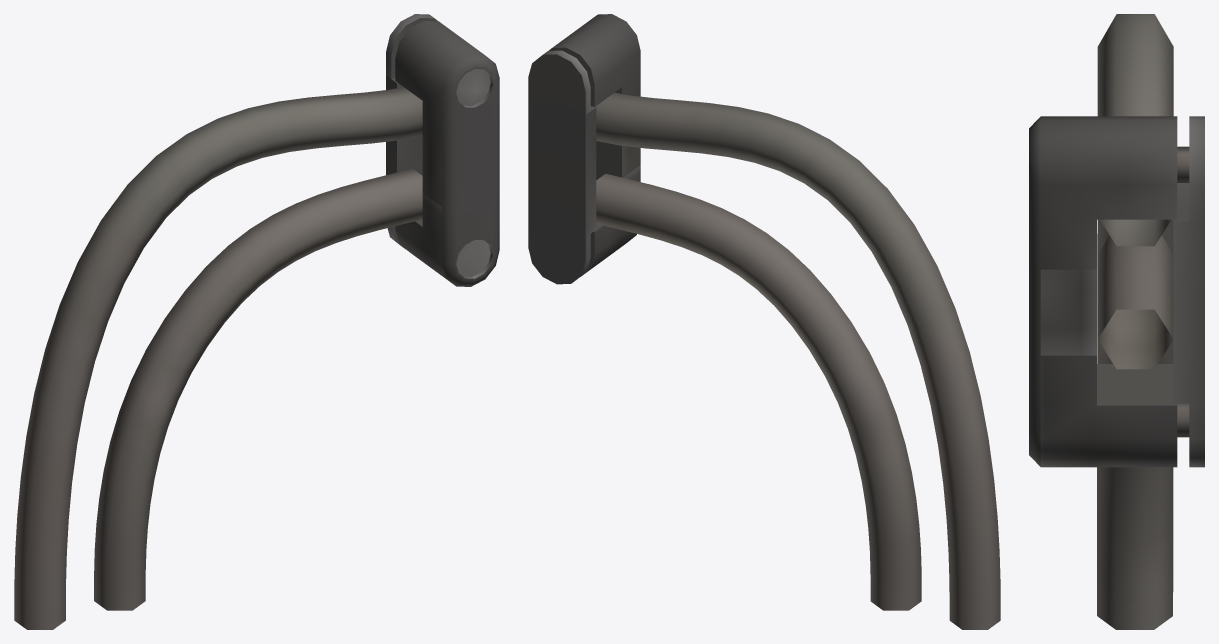
Rendered from wall-cable-bend--8.gltf.
3 views of the same model, side by side, from view 1: azimuth 30°, elevation 25°; view 2: azimuth 150°, elevation 25°; view 3: azimuth 270°, elevation 25° (orthographic). The views are drawn at different scales.
Visible parts, largest first — view 1: cable_double_turn_short; view 2: cable_double_turn_short; view 3: cable_double_turn_short.
Part boxes in pixels (box(x1,y1,x2,y2)): cable_double_turn_short: box(14, 14, 499, 629); cable_double_turn_short: box(528, 14, 1000, 629); cable_double_turn_short: box(1029, 14, 1204, 629).
Size of the model in its own units: 0.112 by 0.1178 by 0.0259.
1 material, 1 textured.
